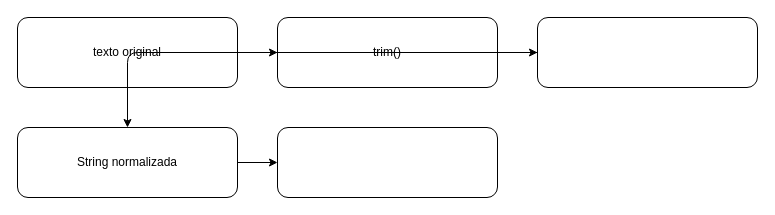
Some shapes in this 775 by 215 pixel diagram are drawn without their labels. The shapes that lost their labels are listed below. From the top down, each one's centre as x and y in pixels, then its label:
At [647,52]: "toLowerCase()".
At [387,162]: "contains()".
